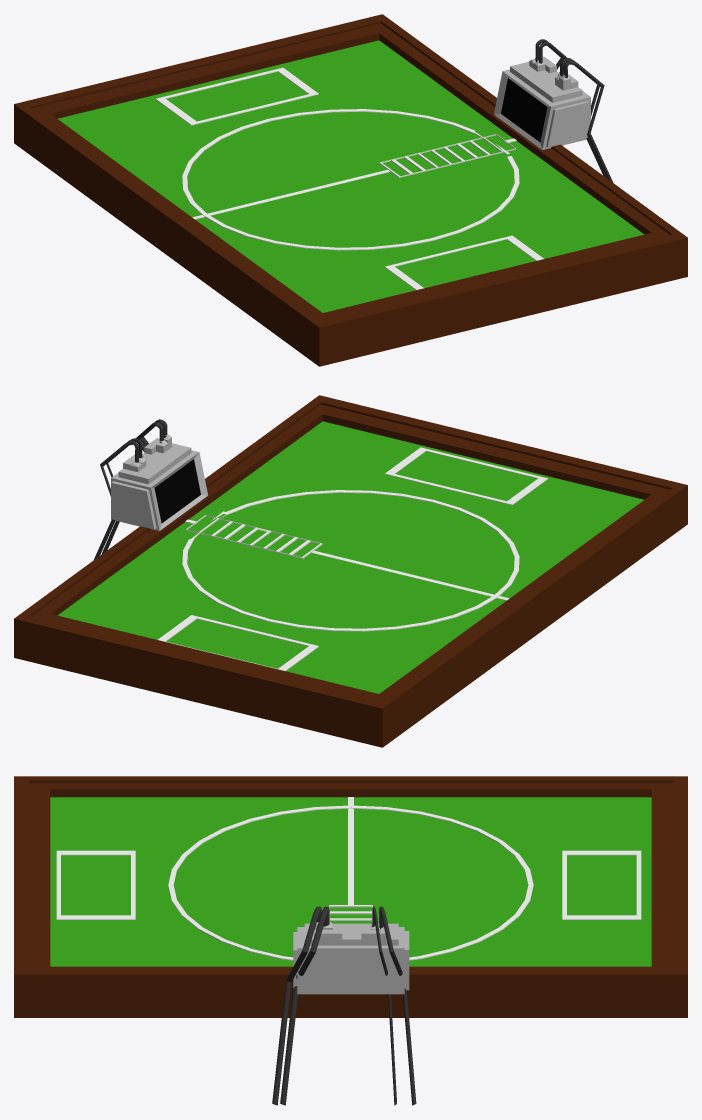
Rendered from стол.fbx.
3 views of the same model, one above another, from view 1: azimuth 30°, elevation 25°; view 2: azimuth 150°, elevation 25°; view 3: azimuth 270°, elevation 25° (orthographic). The views are drawn at different scales.
Visible parts, largest first — view 1: Cube.008; view 2: Cube.008; view 3: Cube.008.
Part boxes in pixels (x1,y1,x2,y2): Cube.008: (14,14,687,366); Cube.008: (14,395,687,747); Cube.008: (14,776,687,1105).
Bounding box in the file's own units: 736 × 262 × 904.
